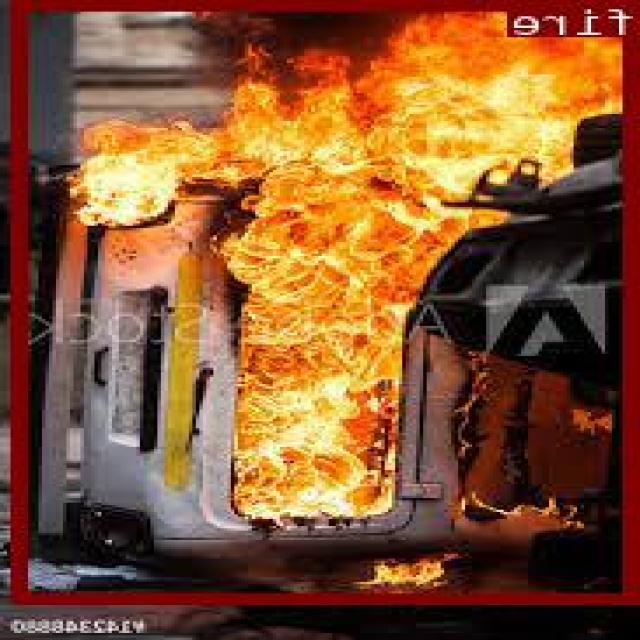fire: (14, 0, 640, 600)
